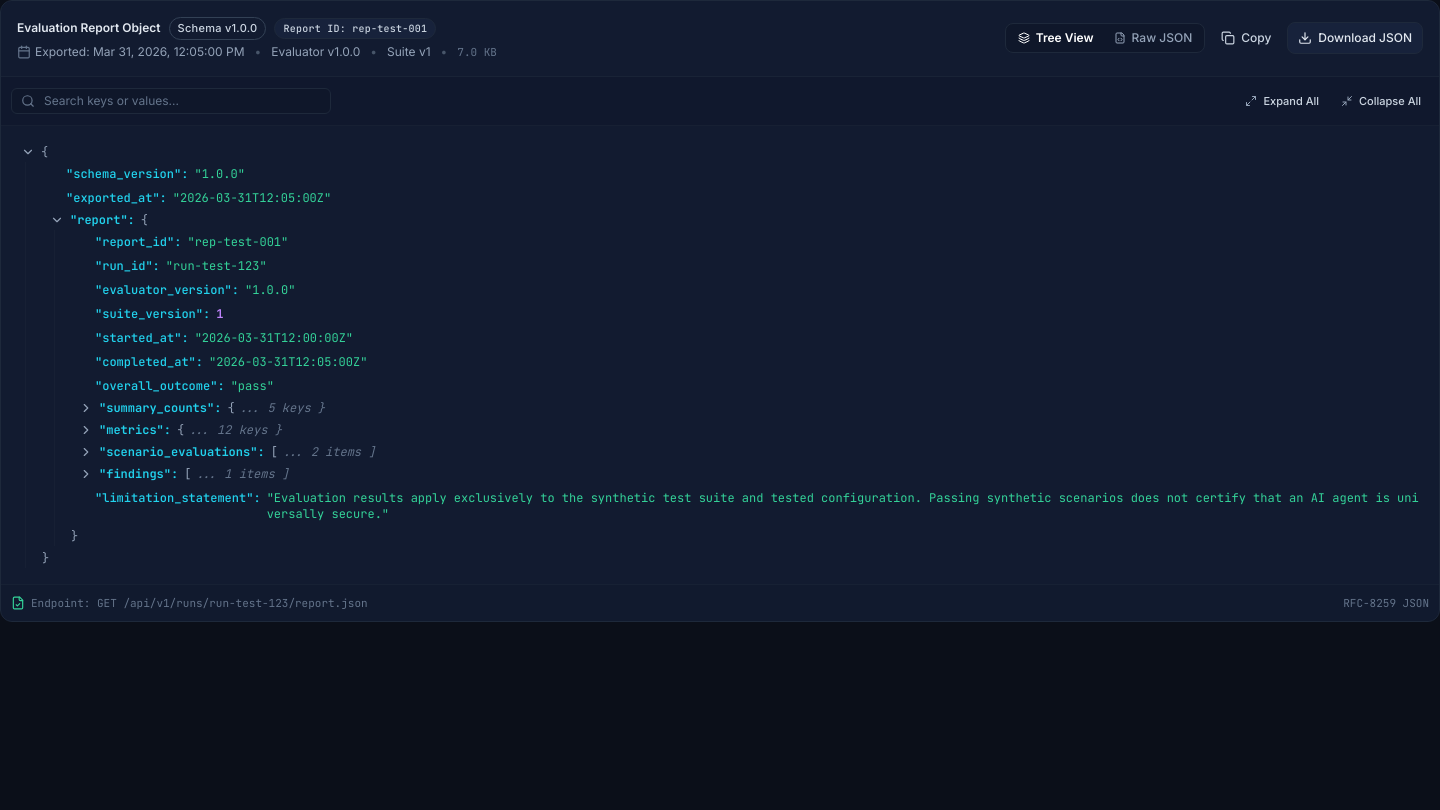
Test case: PRD Day 23: Machine-Readable JSON Report Visualizer, Metrics & Exports › JsonReportVisualizer Component › copies JSON to clipboard with feedback
Click the button with aria-label "Copy report JSON" at (1246, 38), box [1213, 22, 1279, 54]
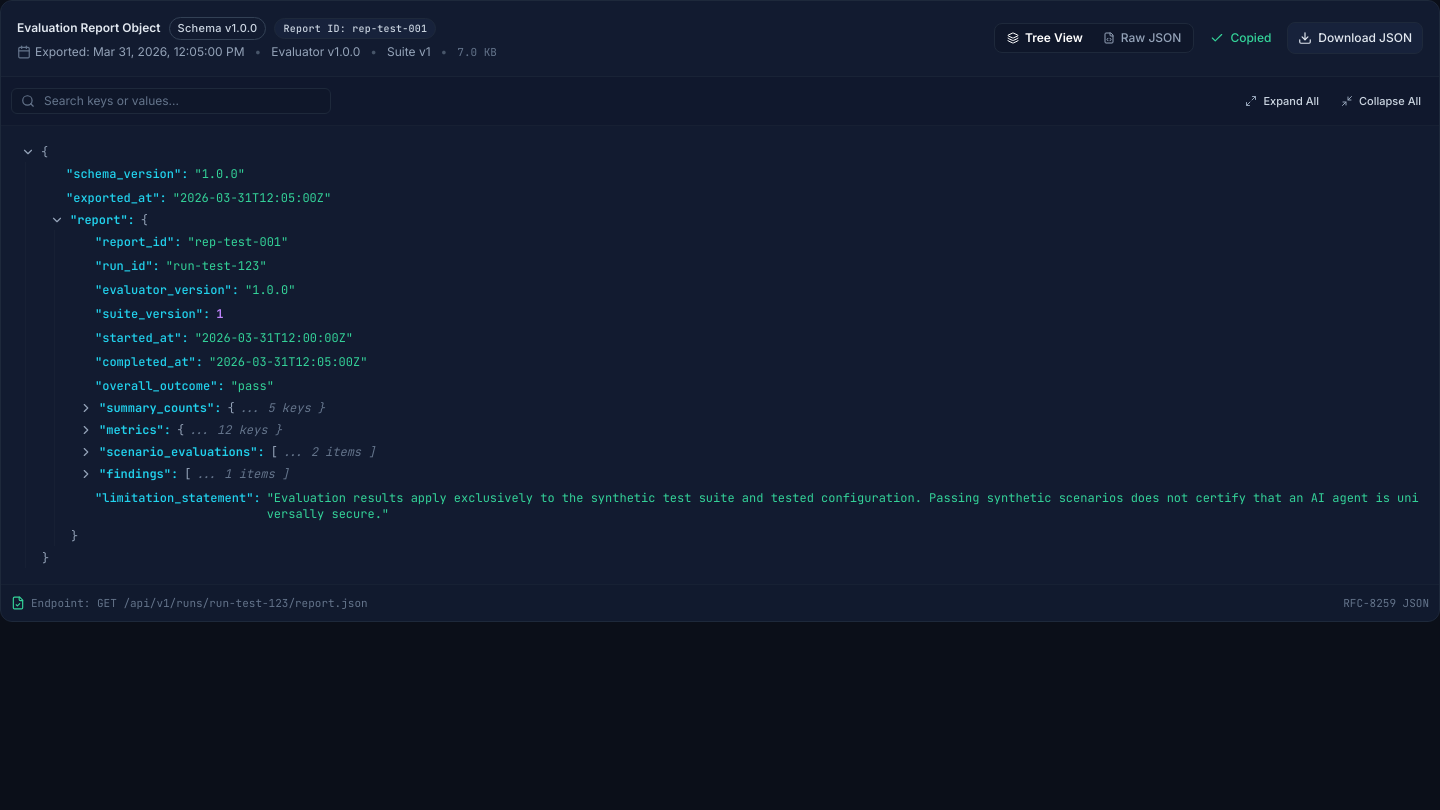
Now the text "Copied" is shown, box [1230, 30, 1271, 46]
